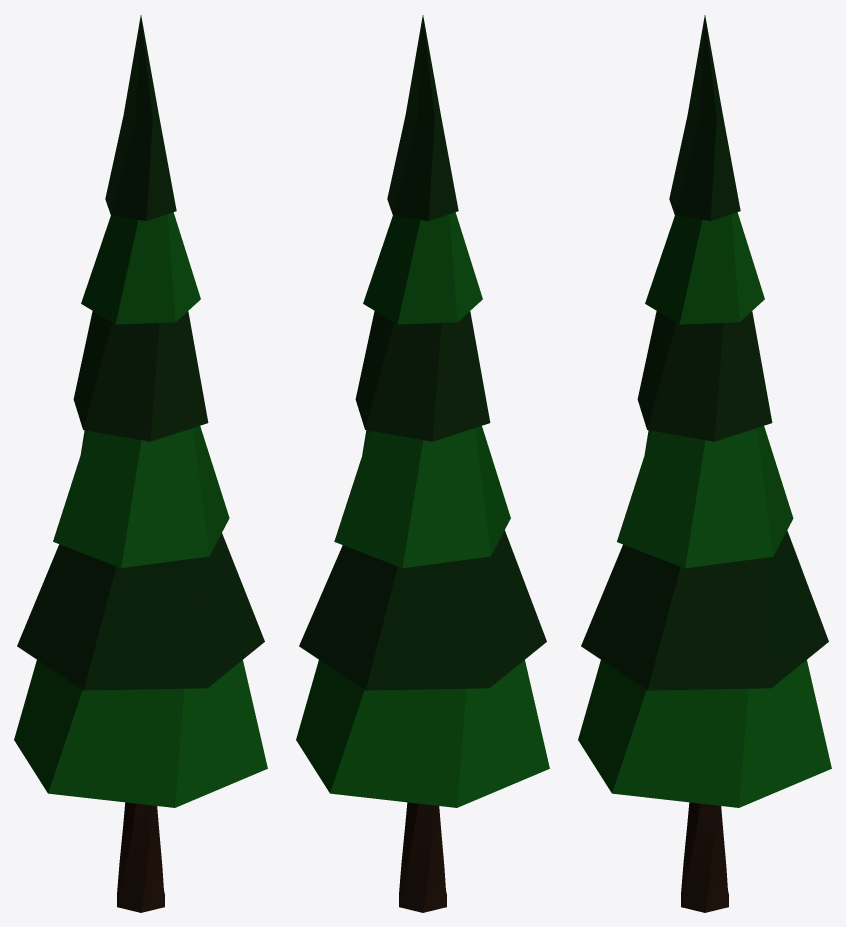
File: TallTree.fbx
3 renders of one model, left to right at view 1: azimuth 30°, elevation 25°; view 2: azimuth 150°, elevation 25°; view 3: azimuth 270°, elevation 25°, orthographic.
Visible parts, largest first — view 1: Crown, Trunk; view 2: Crown, Trunk; view 3: Crown, Trunk.
Boxes of the visible parts, x1,y1,x2,y2 form: Crown: (14,15,267,807); Trunk: (117,802,164,912); Crown: (296,15,549,807); Trunk: (399,802,446,912); Crown: (578,15,831,807); Trunk: (681,802,728,912).
Bounding box in the file's own units: 226 × 870 × 226.
